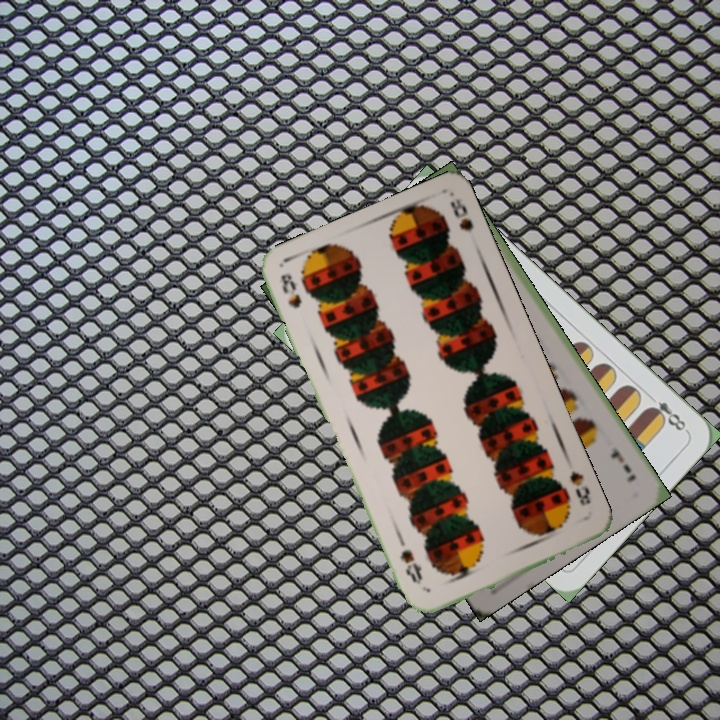E7: (606, 444, 639, 485)
E8: (643, 389, 690, 435)
S8: (565, 467, 594, 509), (276, 269, 304, 311)
